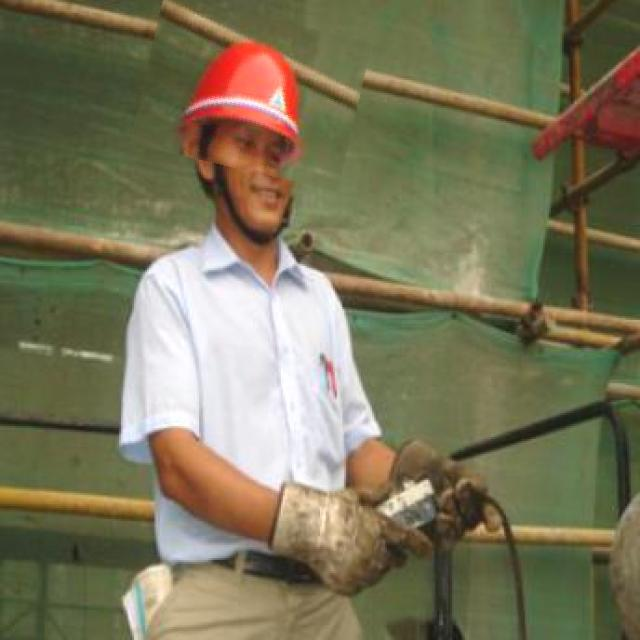helmet: (137, 5, 365, 180)
